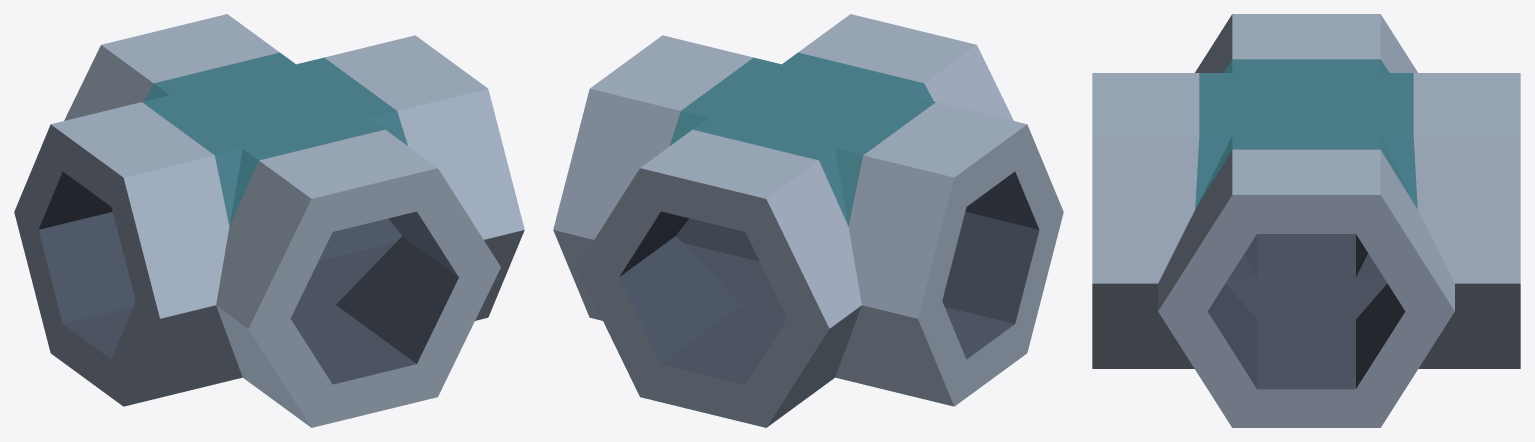
Rendered from pipe_cross.glb.
3 renders of one model, left to right at view 1: azimuth 30°, elevation 25°; view 2: azimuth 150°, elevation 25°; view 3: azimuth 270°, elevation 25°, orthographic.
Visible parts, largest first — view 1: pipe_cross; view 2: pipe_cross; view 3: pipe_cross.
Part boxes in pixels (box(x1,y1,x2,y2)): pipe_cross: box(14, 14, 524, 427); pipe_cross: box(553, 14, 1063, 427); pipe_cross: box(1092, 14, 1520, 427).
Bounding box in the file's own units: 1 × 0.6 × 1.
